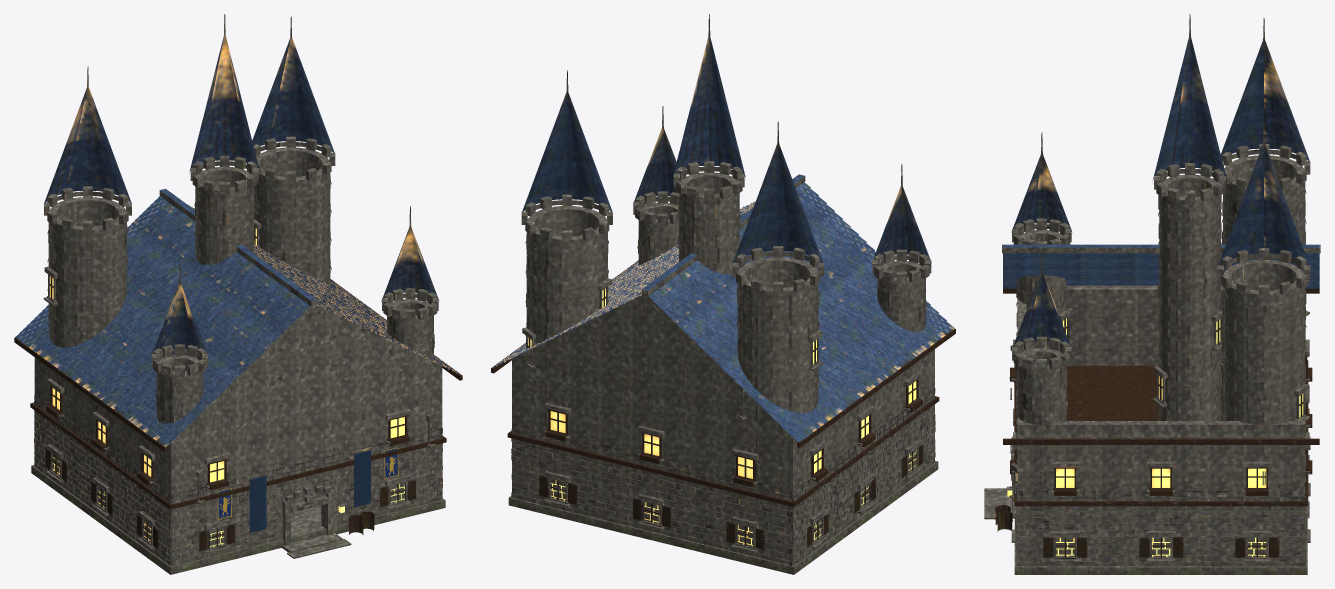
The model's file is bld_mage_card.glb.
3 renders of one model, left to right at view 1: azimuth 30°, elevation 25°; view 2: azimuth 150°, elevation 25°; view 3: azimuth 270°, elevation 25°, orthographic. The views are drawn at different scales.
Visible parts, largest first — view 1: mage_card; view 2: mage_card; view 3: mage_card.
Part boxes in pixels (x1,y1,x2,y2): mage_card: (14, 14, 462, 574); mage_card: (491, 14, 955, 574); mage_card: (984, 14, 1320, 574).
Bounding box in the file's own units: 29.85 × 44.71 × 27.8.
Materials: 1 (1 with a texture image).
